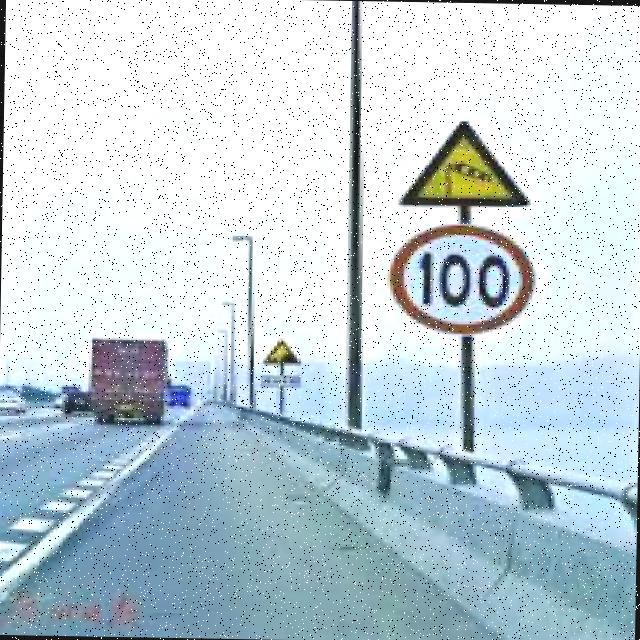Ograniczenie predkosci do 100: (390, 221, 539, 338)
